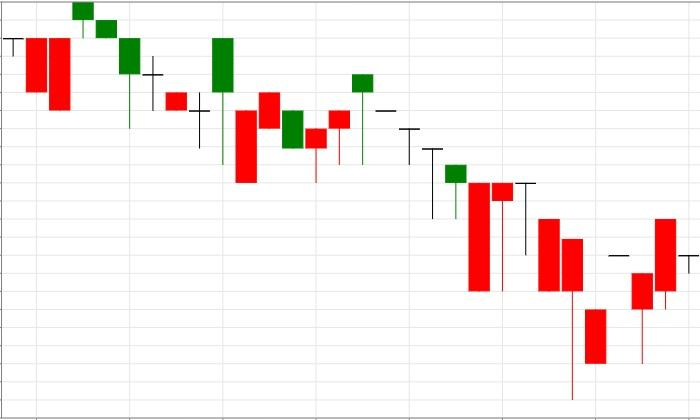hanging_man_fall: (306, 73, 374, 183)
